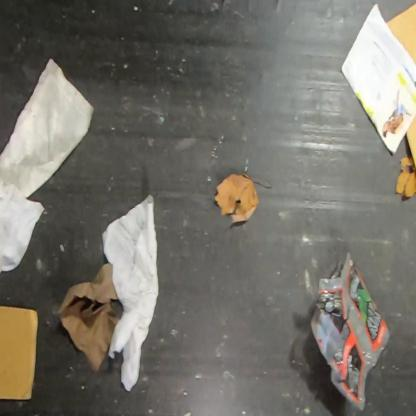cardboard: (0, 304, 41, 401)
soft_plastic: (309, 250, 393, 412)
